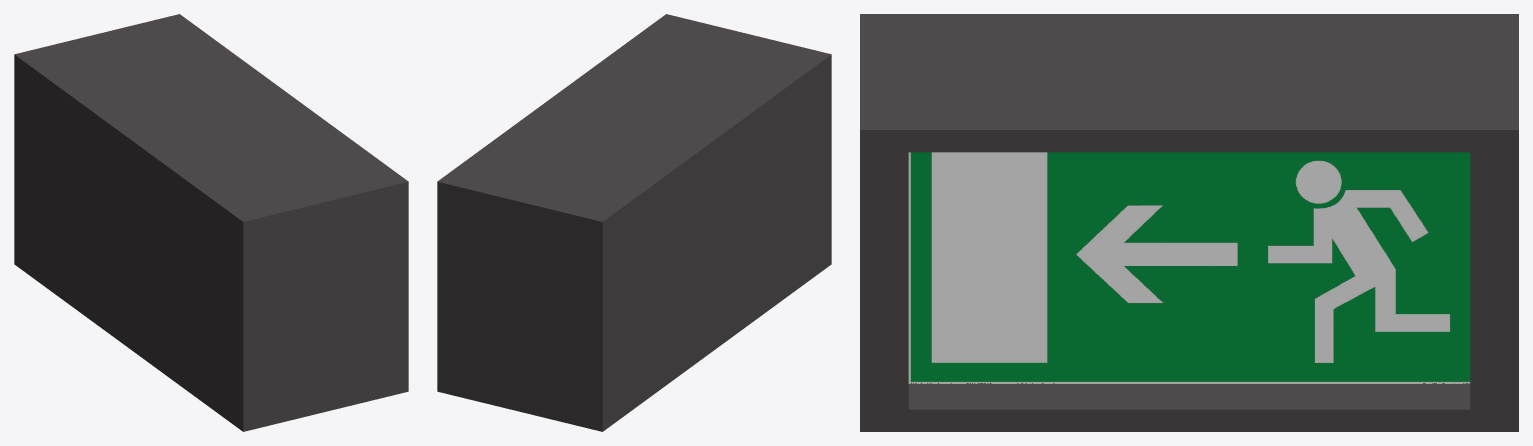
The model's file is CartelSalida.fbx.
3 renders of one model, left to right at view 1: azimuth 30°, elevation 25°; view 2: azimuth 150°, elevation 25°; view 3: azimuth 270°, elevation 25°, orthographic. The views are drawn at different scales.
Parts seen in each view (by area): view 1: Cube; view 2: Cube; view 3: Cube.
Boxes of the visible parts, <box> form: Cube: <box>14,14,408,431</box>; Cube: <box>437,14,831,431</box>; Cube: <box>860,14,1518,431</box>.
Size of the model in its own units: 83.4 by 101 by 200.
Materials: 2 (1 with a texture image).
